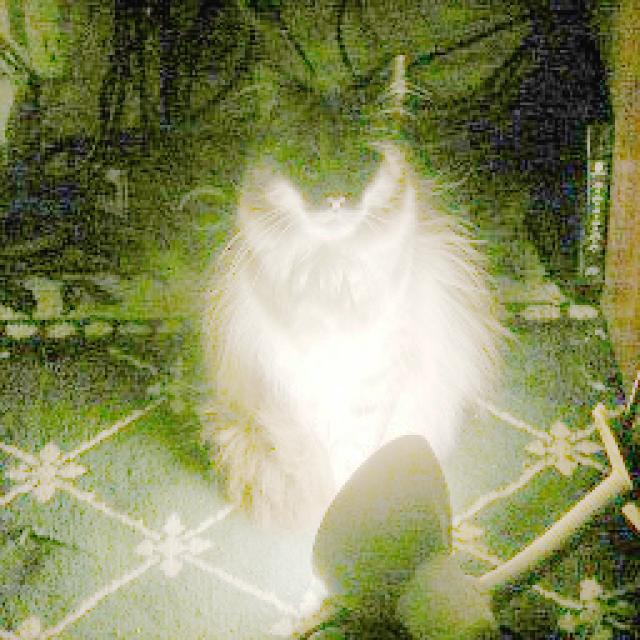cat: (191, 53, 499, 525)
